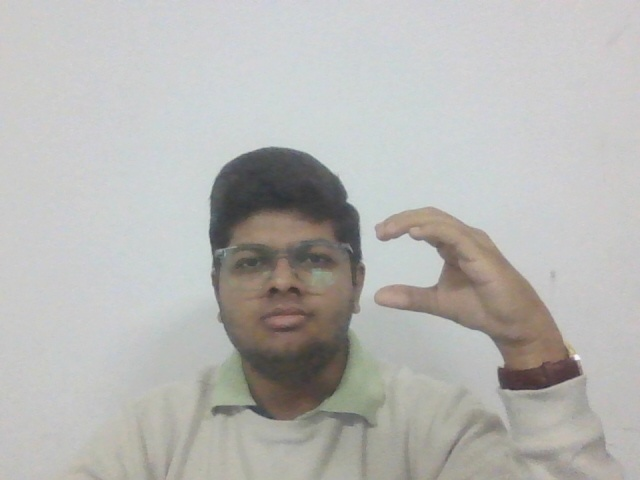C: (373, 205, 553, 345)
